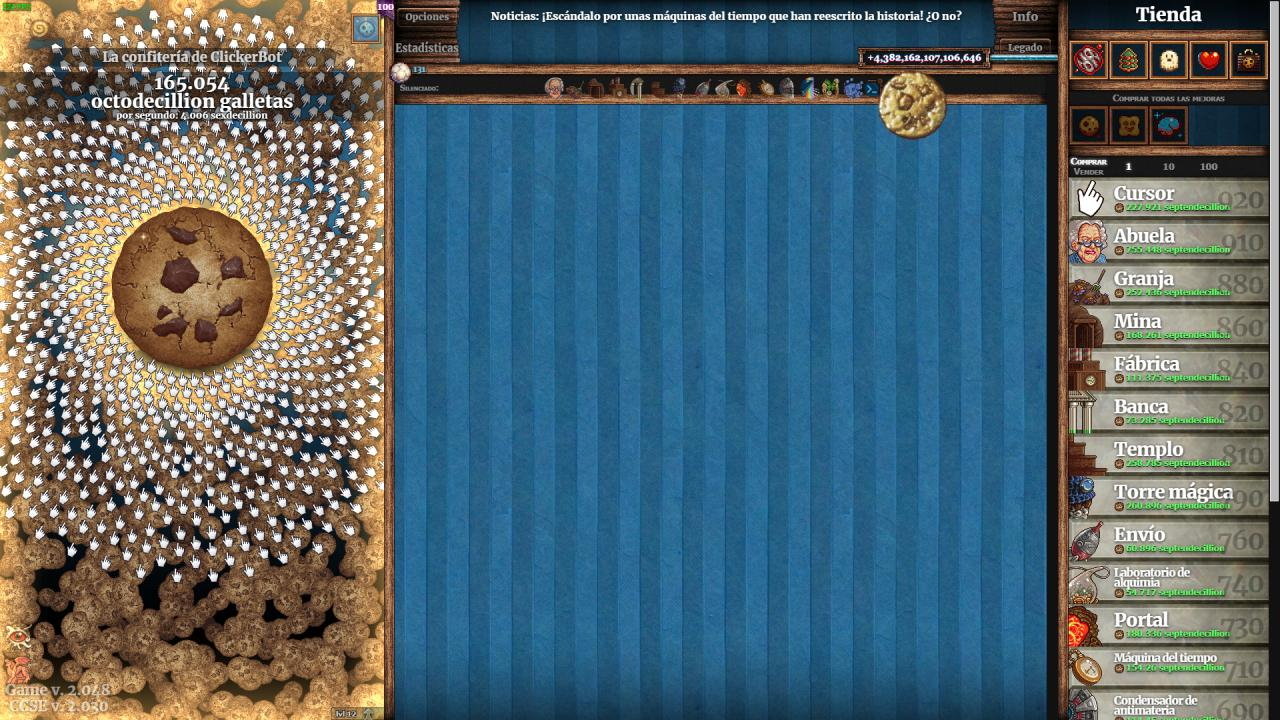GoldenCookie: (876, 70, 950, 141)
